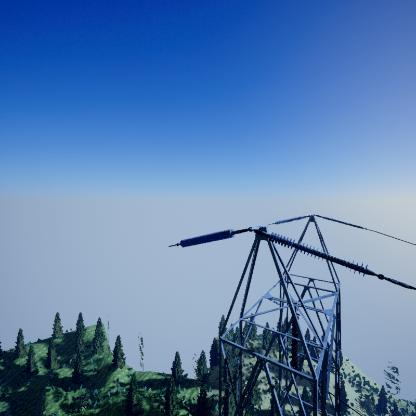insulator: (266, 233, 371, 277), (180, 228, 235, 248)
